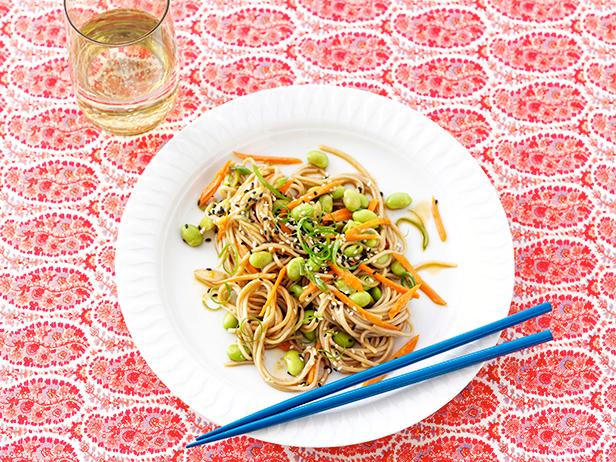Soba: (185, 156, 429, 387)
